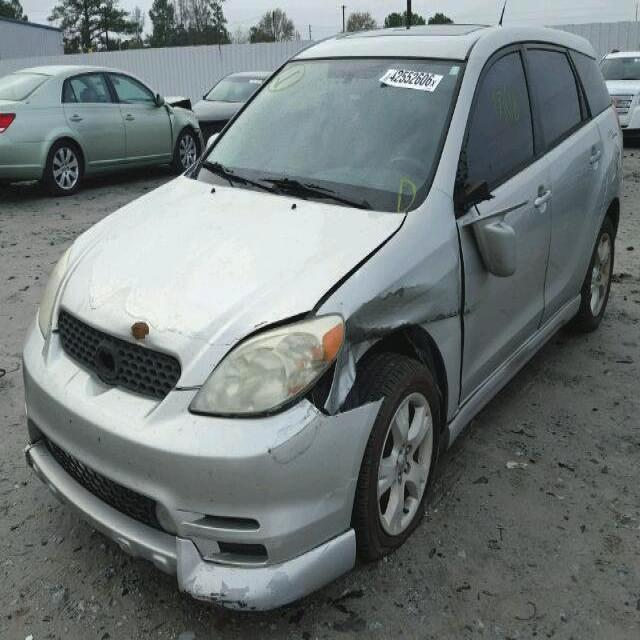minor: (302, 227, 464, 419), (461, 192, 546, 302)
moderate: (246, 400, 327, 467), (189, 567, 280, 615)
